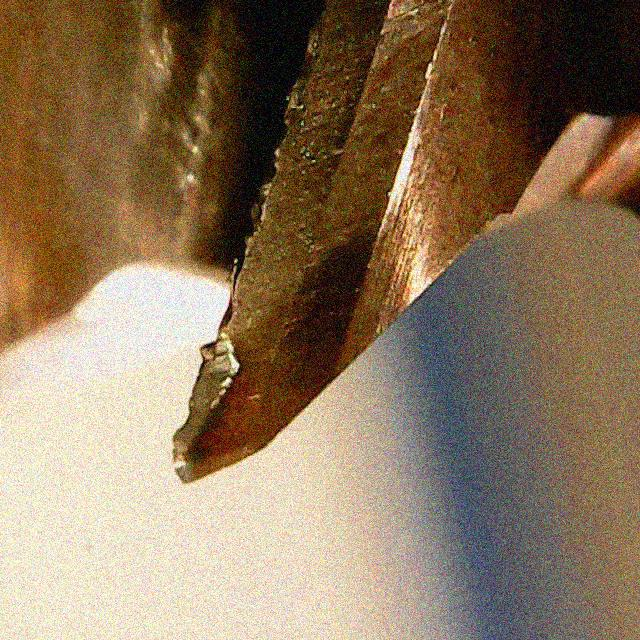Tool-wear-class-2: (157, 277, 329, 503)
